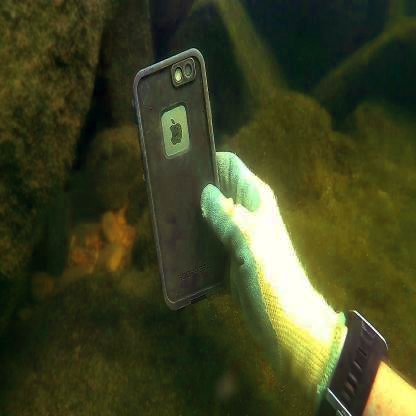cellphone: (131, 47, 234, 313)
